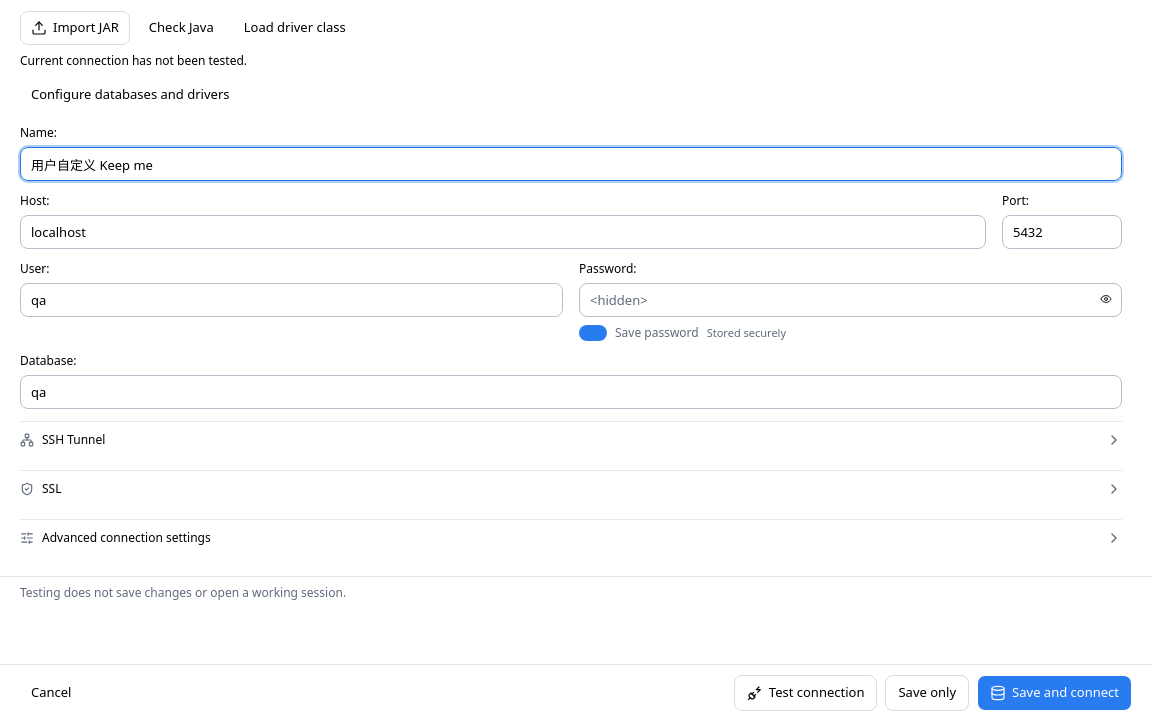
Test: invalidates a completed result when database changes
The width and height of the screenshot is (1152, 720).
(page scrolled)
Click the button "Test connection" at (806, 692), box [734,674,878,710]
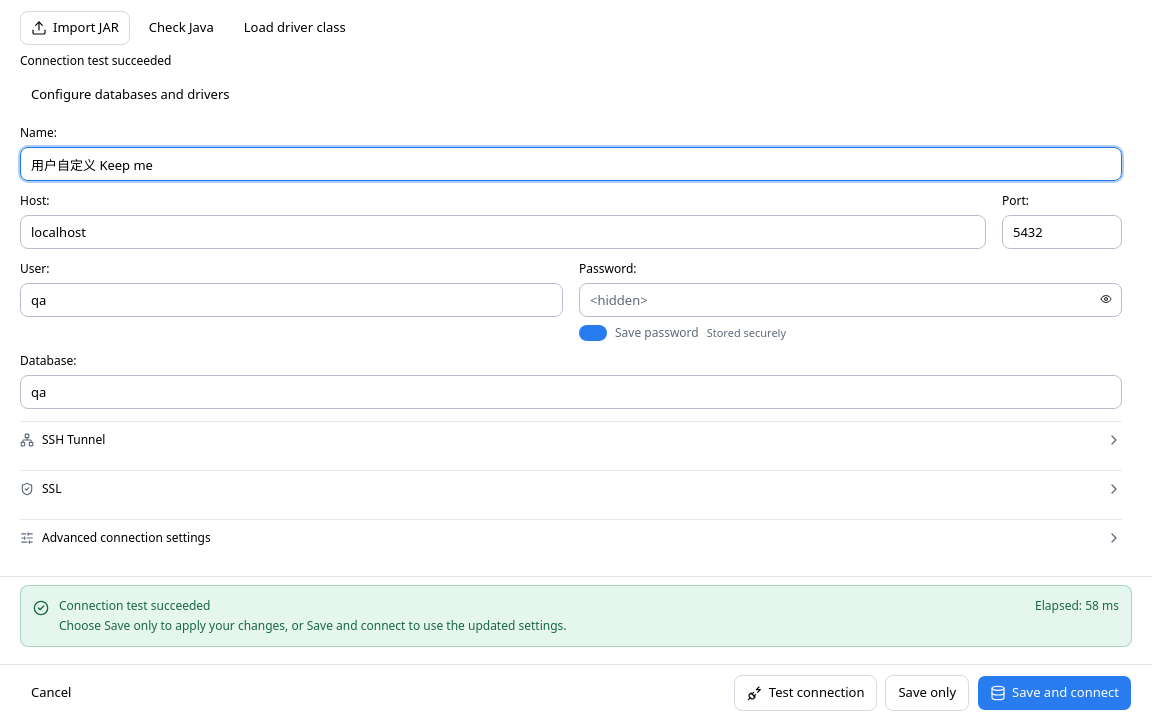
Replace the text in the field labelled "Database:" with "other" at (571, 392), box [20,375,1122,409]
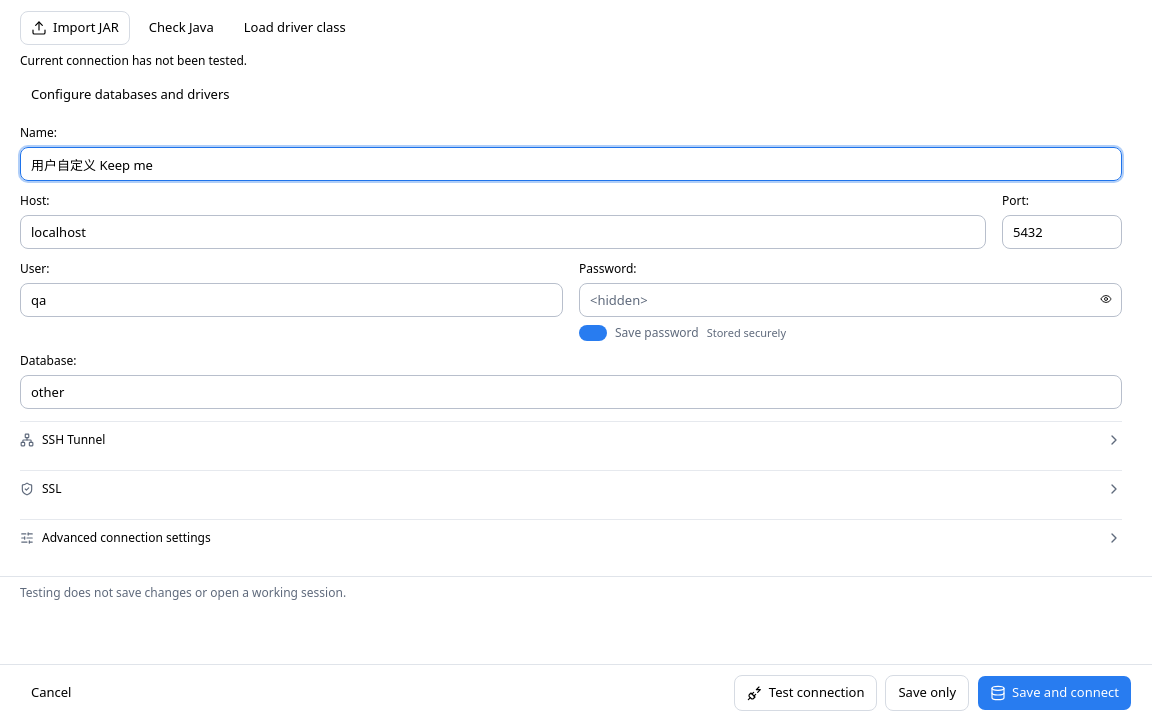
Expected: the text "Connection test succeeded" is gone
Expected: the text "Current connection has not been tested." is shown, [20,52,247,69]
